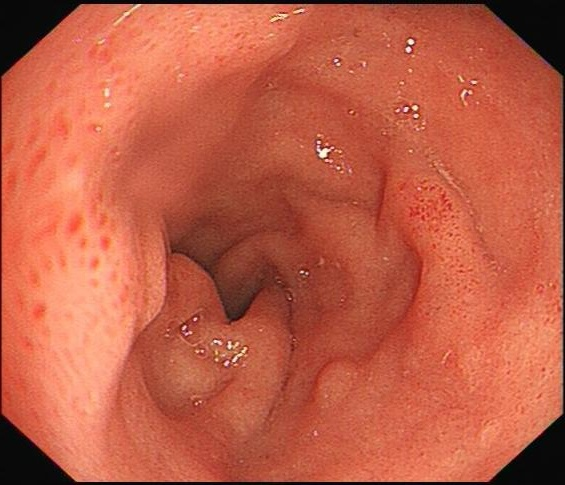Polyp: (313, 354, 366, 409)
